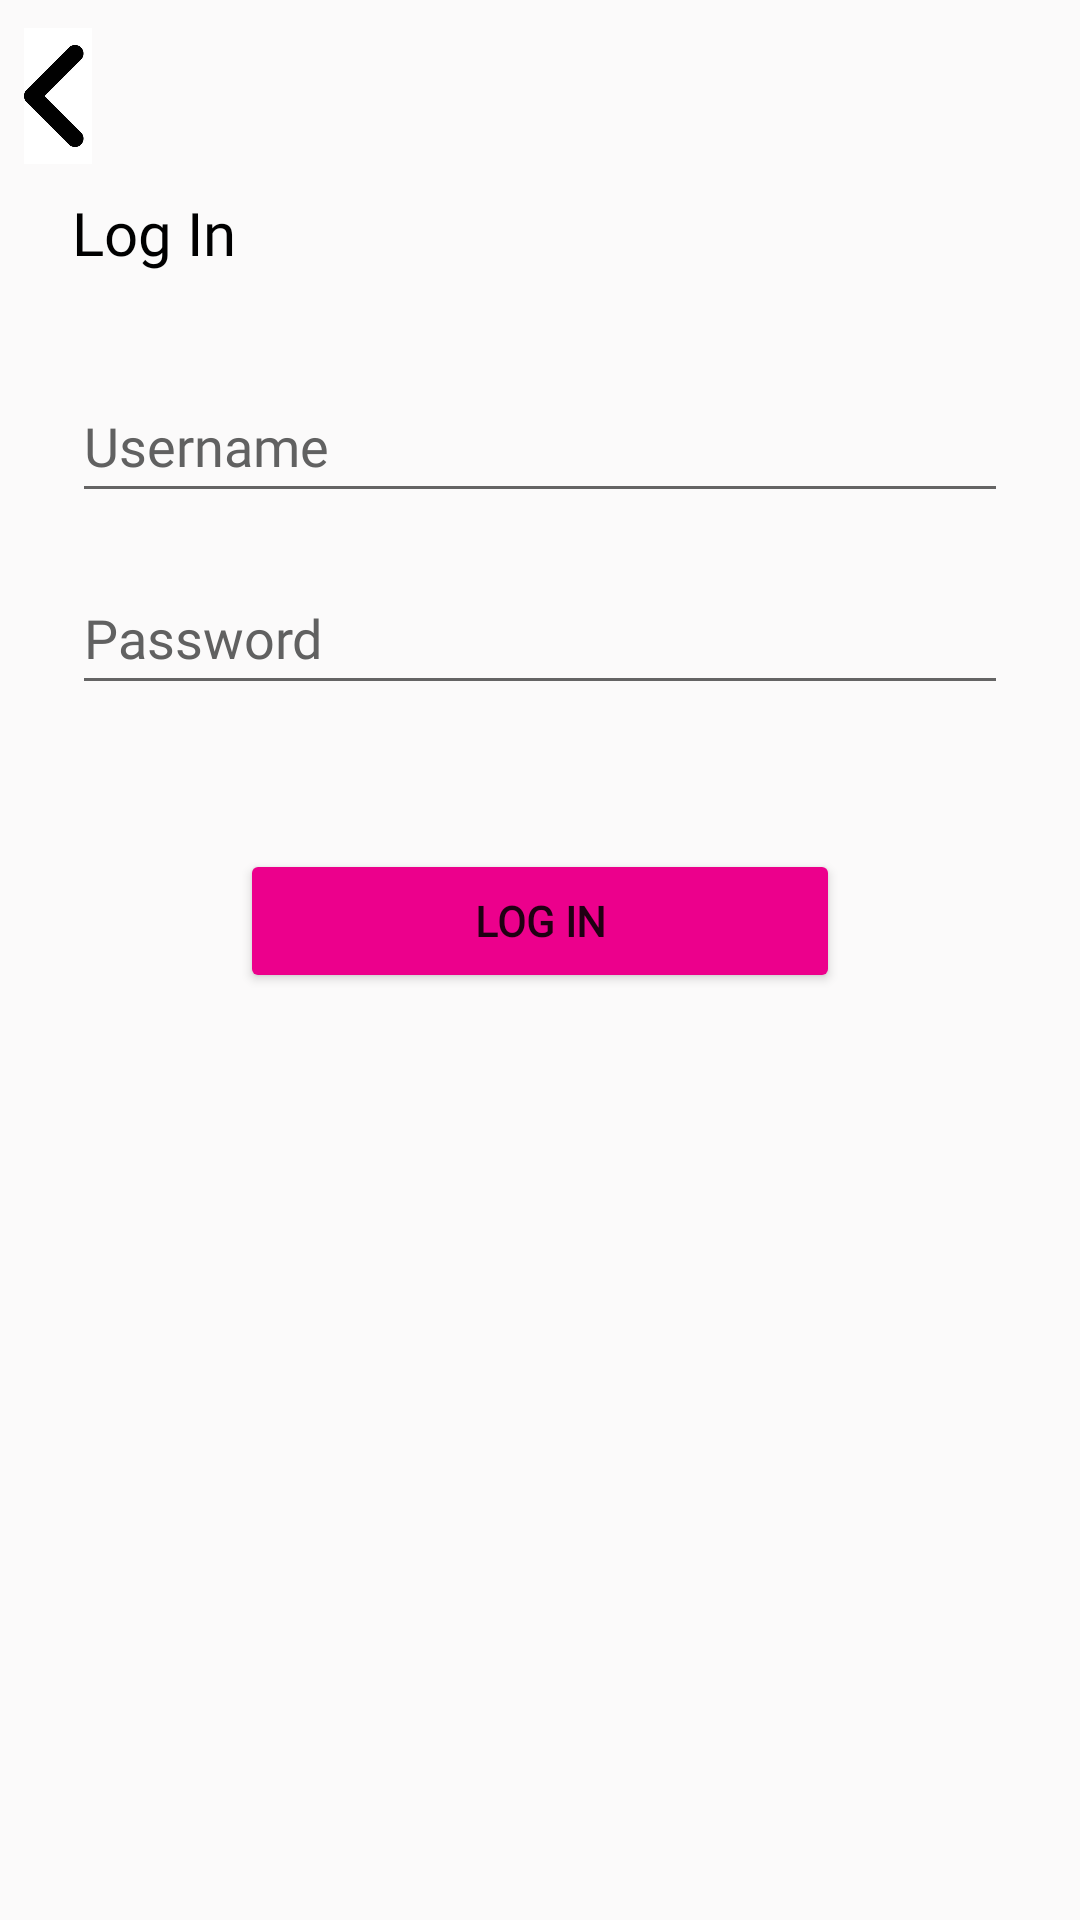

Screen size 1080 x 1920. Icon name, then its center in pixels as [x,y]:
back: [54,96]
